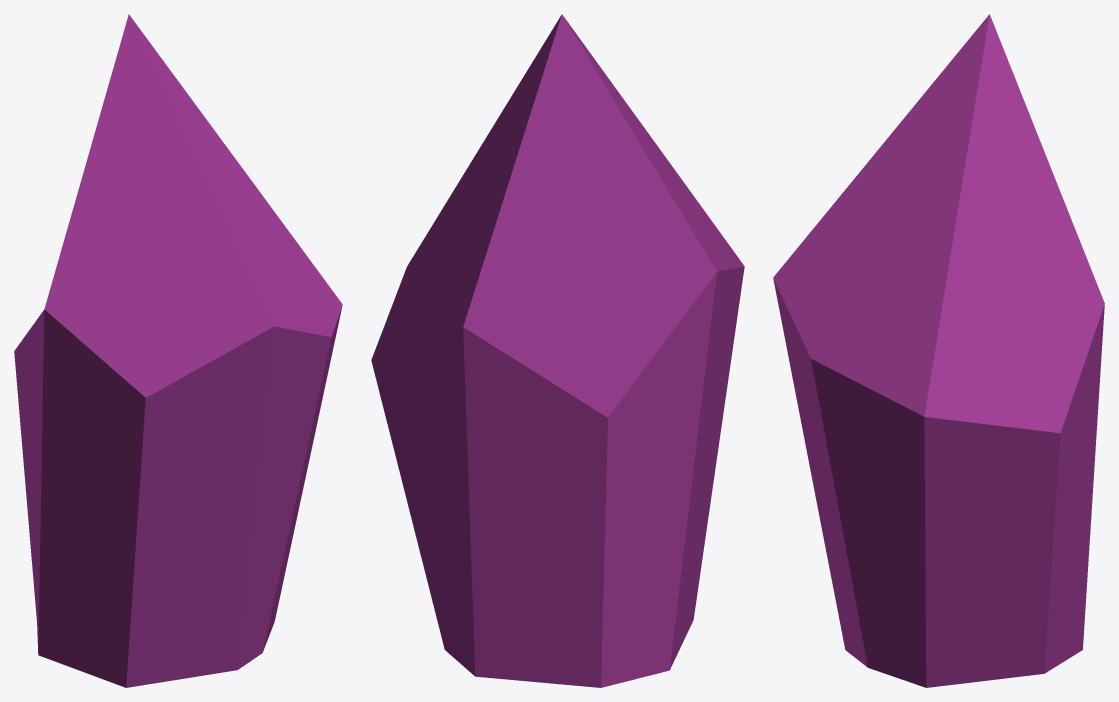
File: SmallCrystal2.fbx
3 views of the same model, side by side, from view 1: azimuth 30°, elevation 25°; view 2: azimuth 150°, elevation 25°; view 3: azimuth 270°, elevation 25° (orthographic). The views are drawn at different scales.
Visible parts, largest first — view 1: polySurface1; view 2: polySurface1; view 3: polySurface1.
Boxes of the visible parts, x1,y1,x2,y2 form: polySurface1: (14,14,342,687); polySurface1: (371,14,744,687); polySurface1: (773,14,1104,687).
Bounding box in the file's own units: 0.5967 × 1.17 × 0.57.
